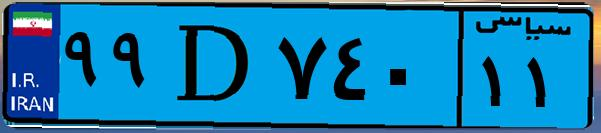0: (385, 28, 445, 110)
1: (475, 38, 525, 113), (525, 38, 570, 115)
4: (330, 28, 385, 110)
7: (270, 28, 330, 110)
9: (57, 26, 110, 100), (110, 28, 158, 98)
D: (158, 12, 270, 120)
